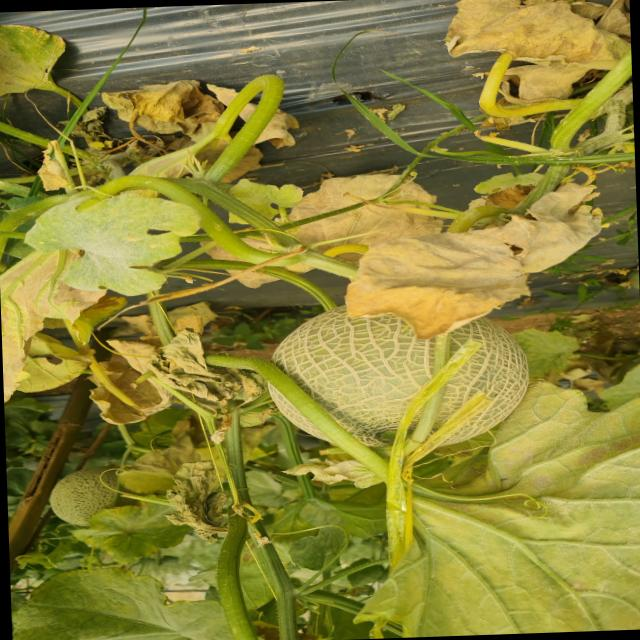melon: (270, 305, 434, 445), (435, 317, 527, 443), (267, 385, 326, 438)
